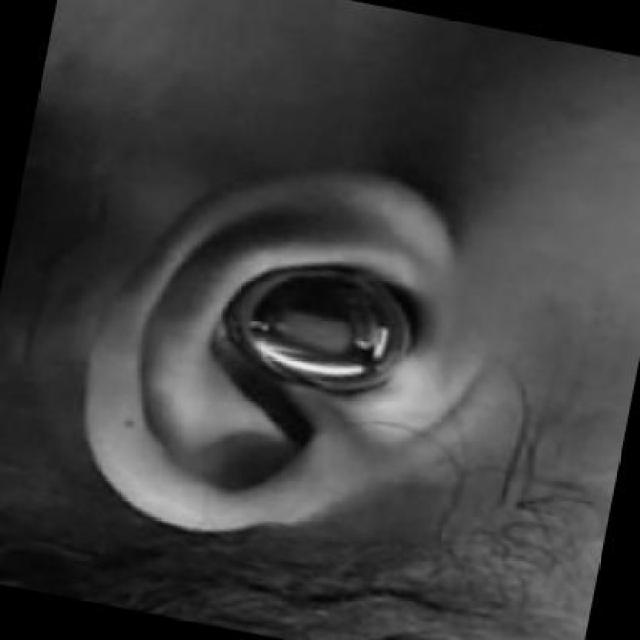earphone: (226, 259, 424, 464)
